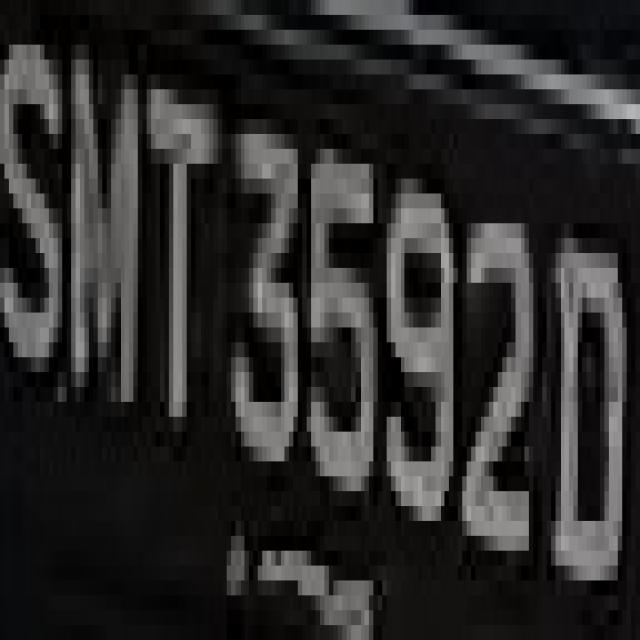2: (453, 149, 542, 580)
3: (222, 74, 311, 521)
5: (294, 89, 374, 536)
9: (369, 119, 462, 595)
D: (537, 178, 635, 640)
M: (53, 104, 147, 417)
S: (9, 29, 58, 432)
T: (142, 74, 231, 402)
